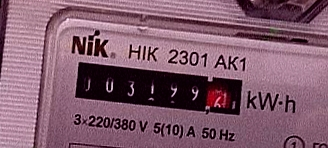0: (78, 71, 92, 93), (101, 73, 115, 94)
1: (145, 76, 157, 96)
3: (123, 77, 135, 97)
6: (212, 93, 223, 109)
9: (166, 78, 178, 99), (187, 82, 199, 102)
screen: (66, 57, 251, 123)
